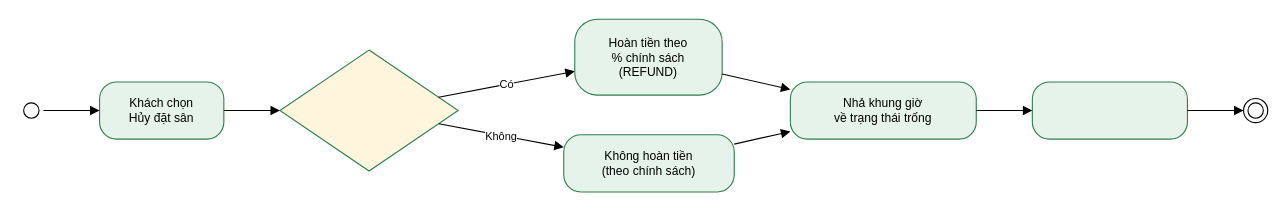
This 1287x211 diagram has some shape labels left out. Each missing label, with the centre of its shape:
"Còn trong thời hạn hủy (≥ N giờ)?" belongs at (x=368, y=110).
"Gửi thông báo khách & chủ sân" belongs at (x=1109, y=110).
